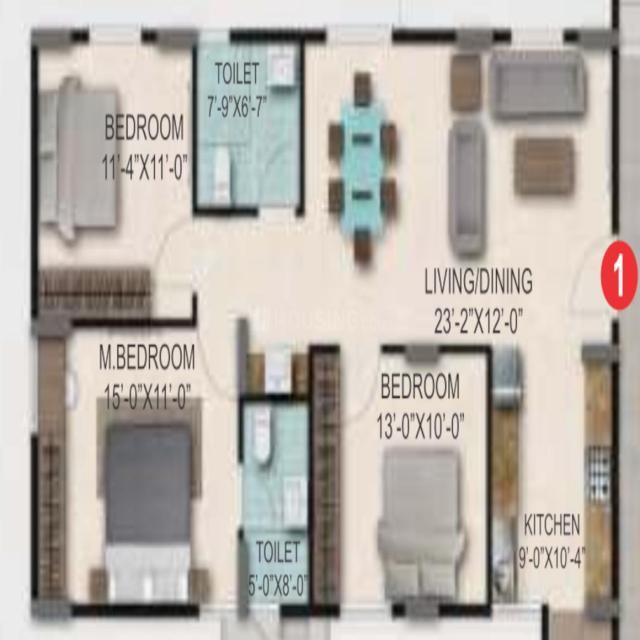Bedroom: (308, 344, 493, 617), (29, 31, 197, 325)
Bedroom with Toilet: (30, 318, 314, 620)
Dining: (328, 70, 400, 260)
Kitchen: (488, 339, 620, 617)
Living: (446, 24, 620, 336)
Toilet: (193, 27, 307, 218)
